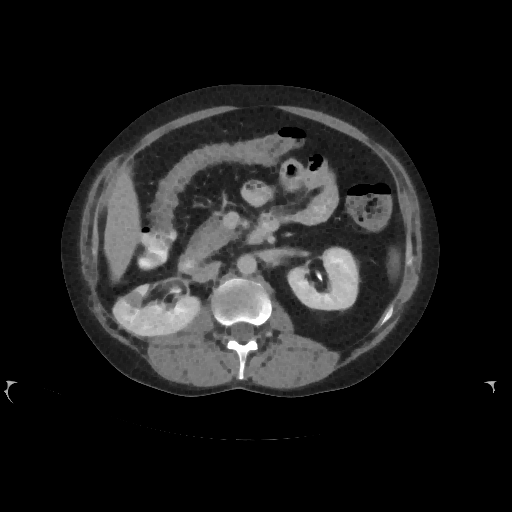Lesion: (117, 290, 146, 310)
